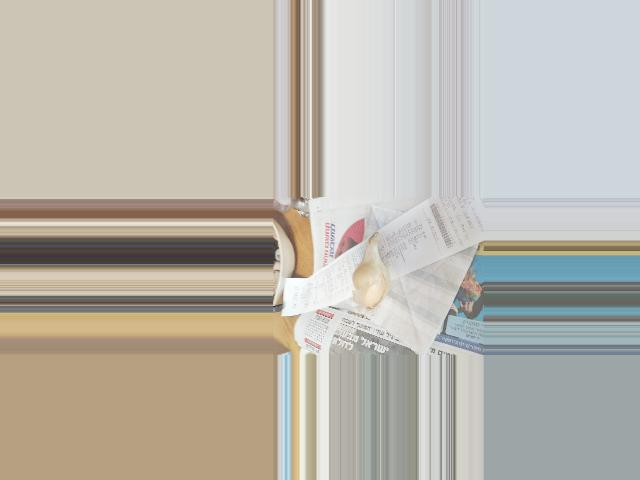onion: (351, 252, 392, 305)
